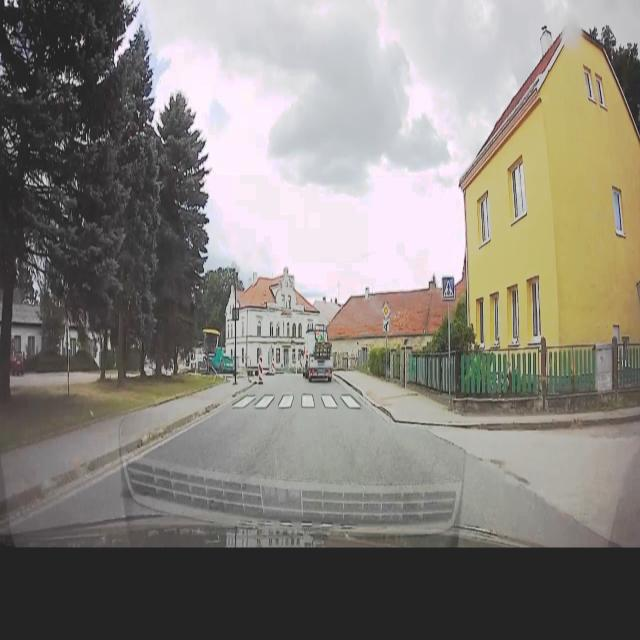Priority road: (383, 297, 392, 322)
